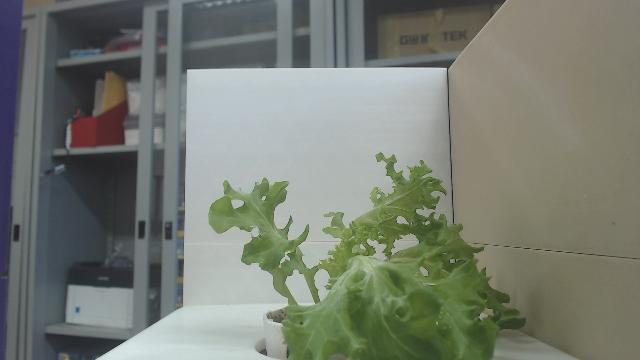Harvest Stage: (209, 148, 526, 360)
